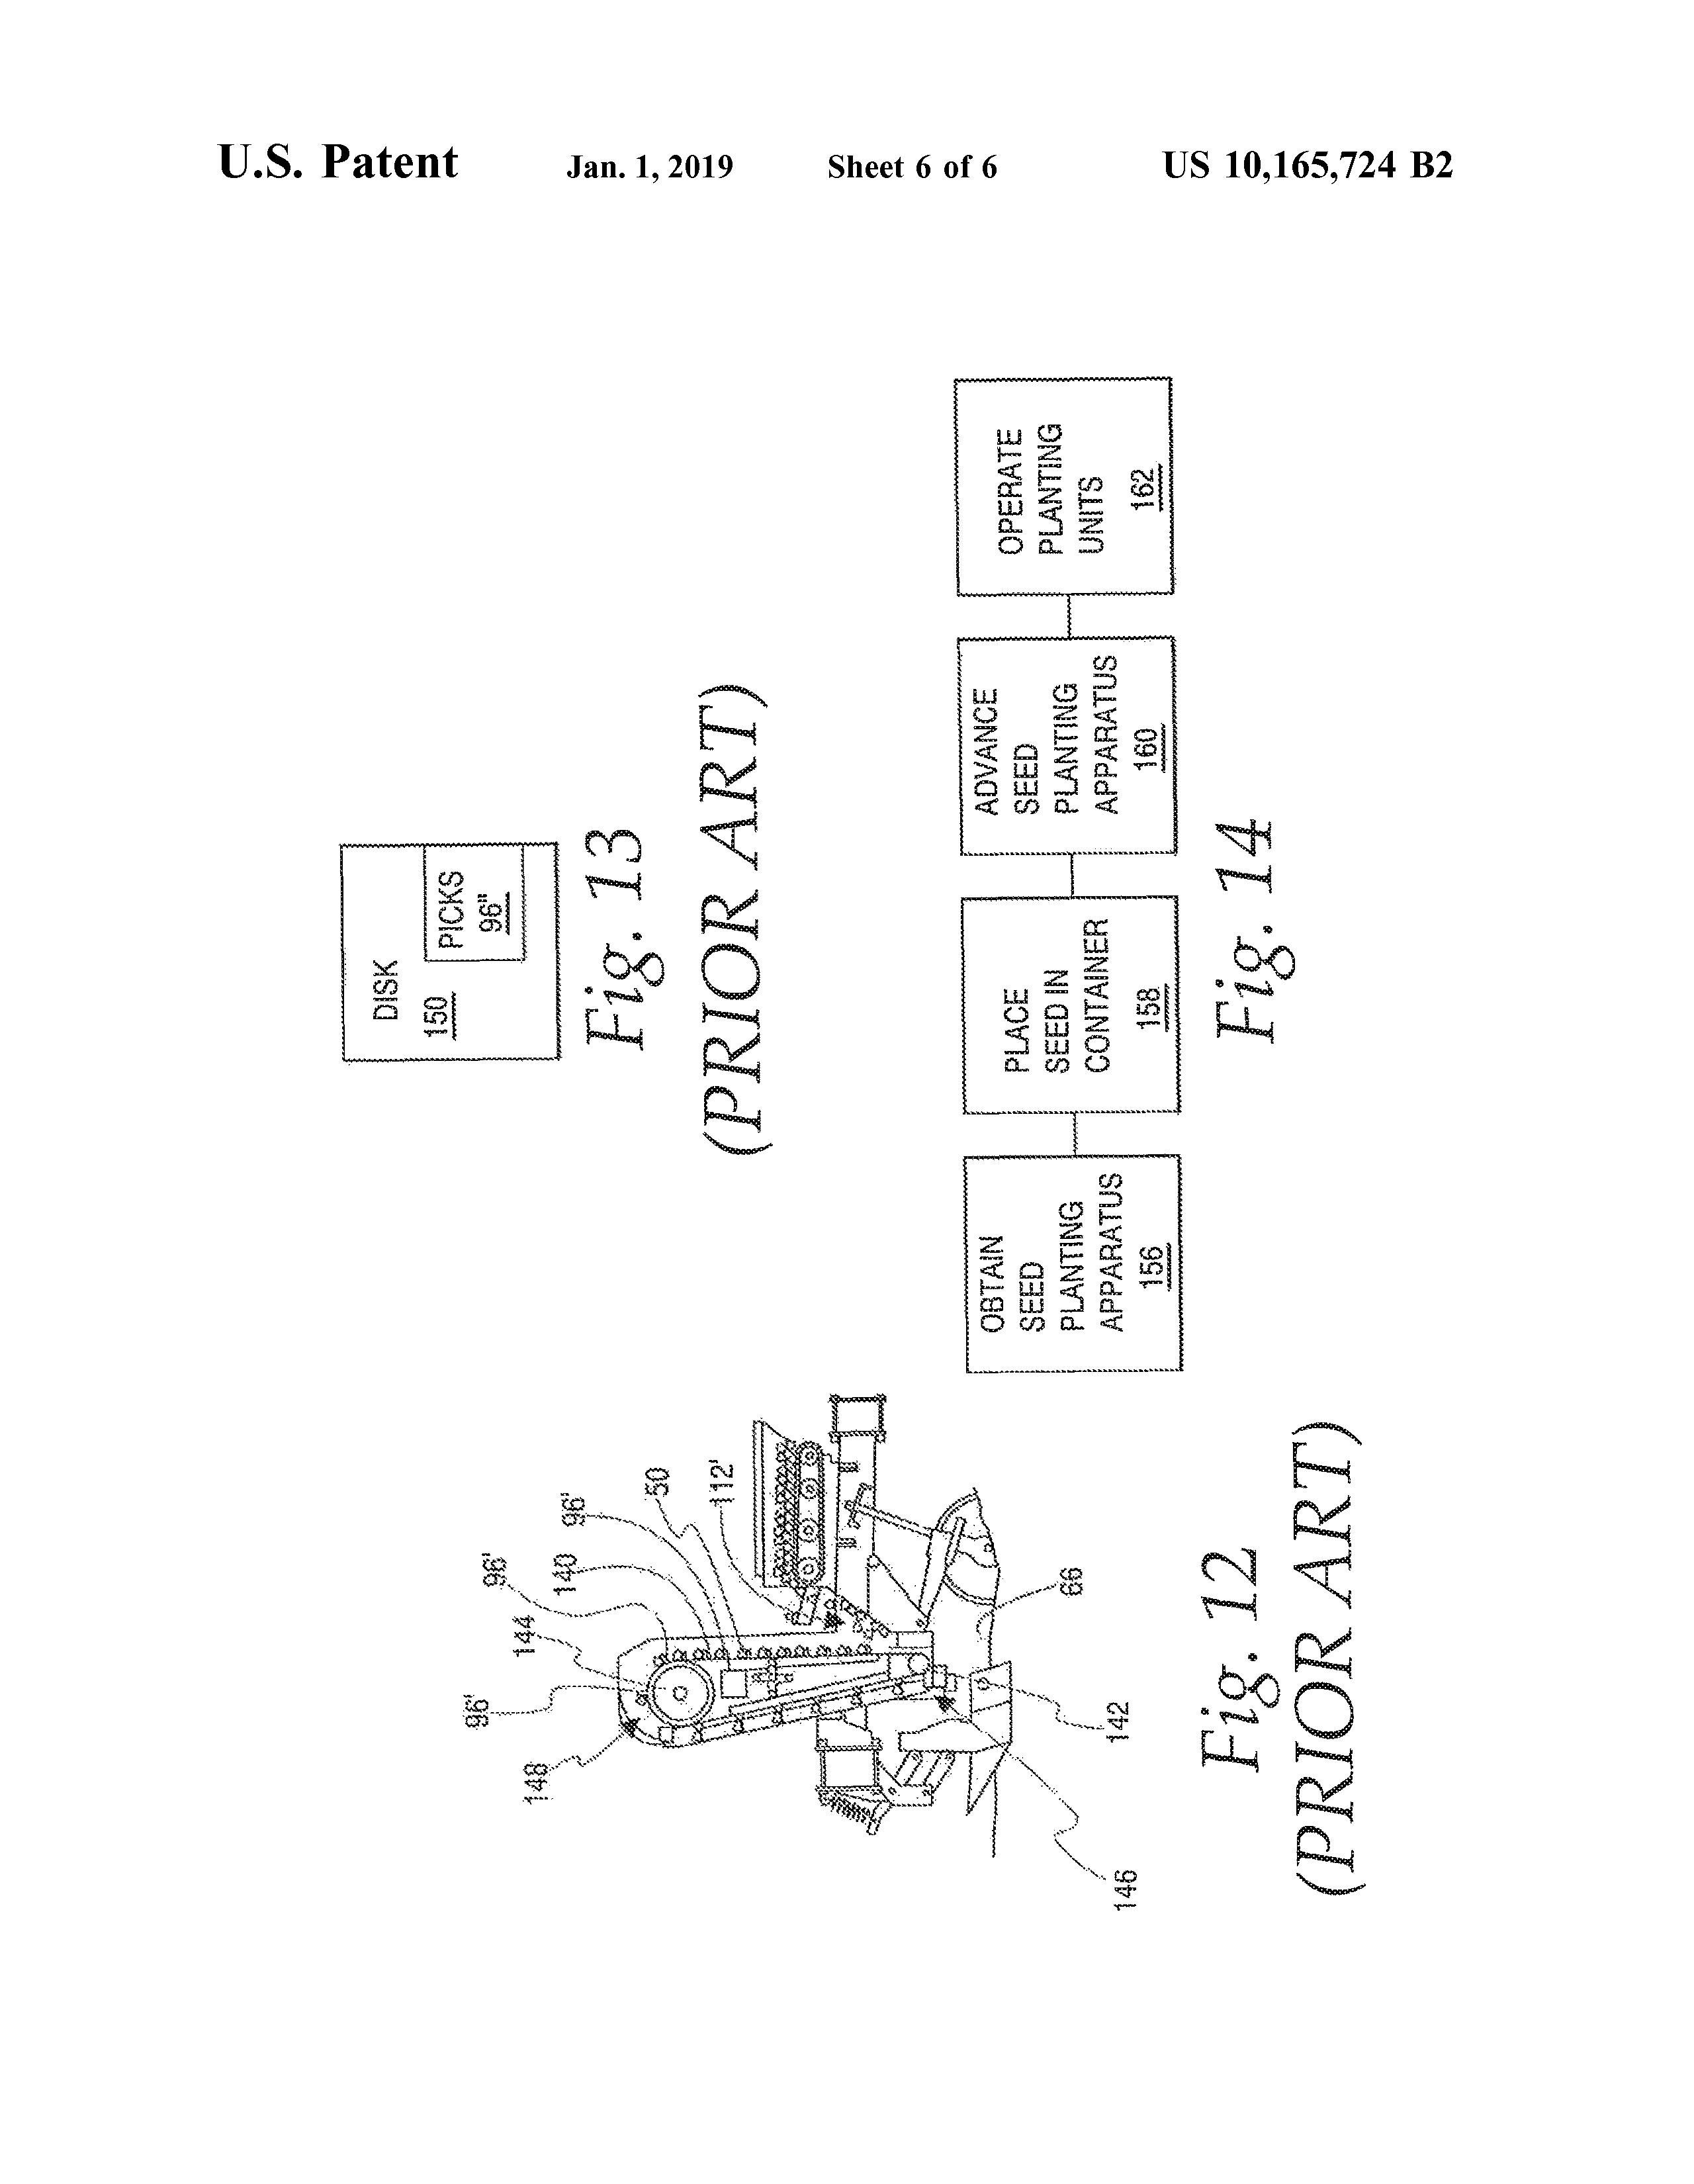patent image: (394, 1373, 1429, 1931), (932, 305, 1308, 1401), (328, 650, 808, 1183)
